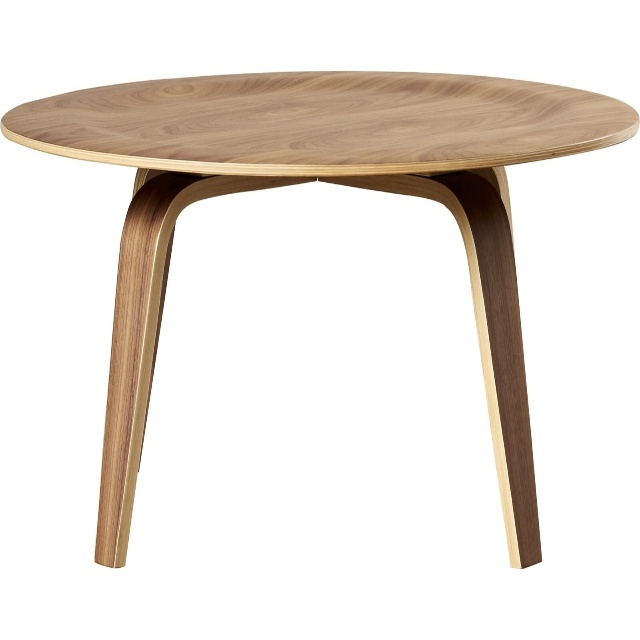obstacle: (2, 72, 638, 568)
